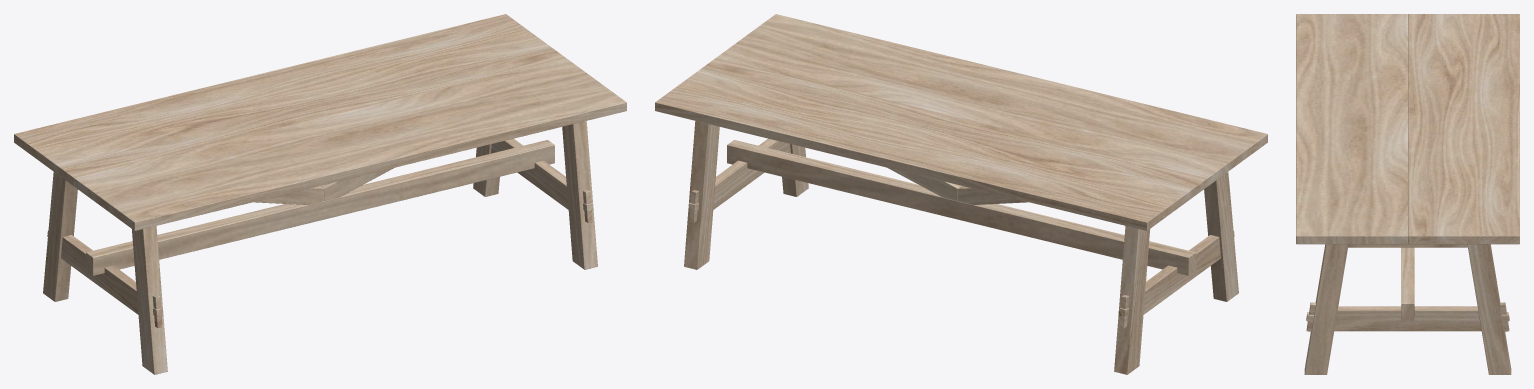
File: sh_blend_swap_cc_0_table.glb
The picture shows the model from 3 angles, left to right: view 1: azimuth 30°, elevation 25°; view 2: azimuth 150°, elevation 25°; view 3: azimuth 270°, elevation 25°; orthographic projection. The views are drawn at different scales.
Size of the model in its own units: 2.35 by 0.739 by 1.
Materials: 2 (2 with a texture image).
